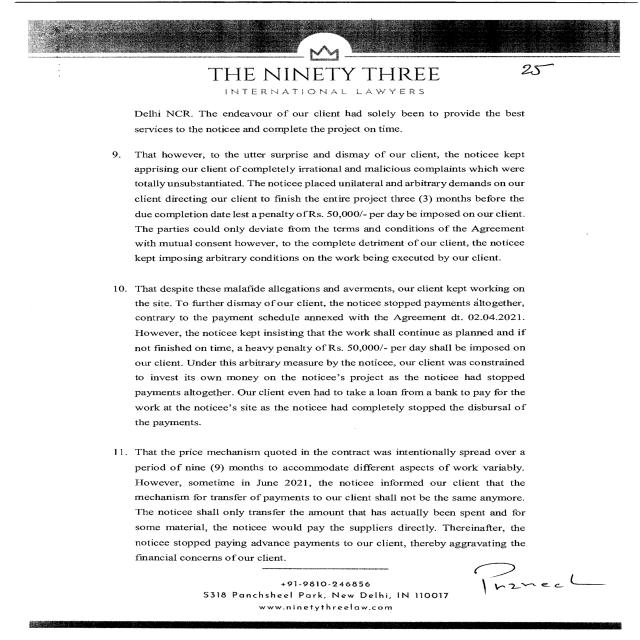page-number: (452, 58, 640, 98)
